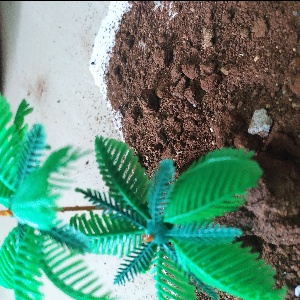plant: (80, 135, 260, 300), (2, 95, 117, 300)
